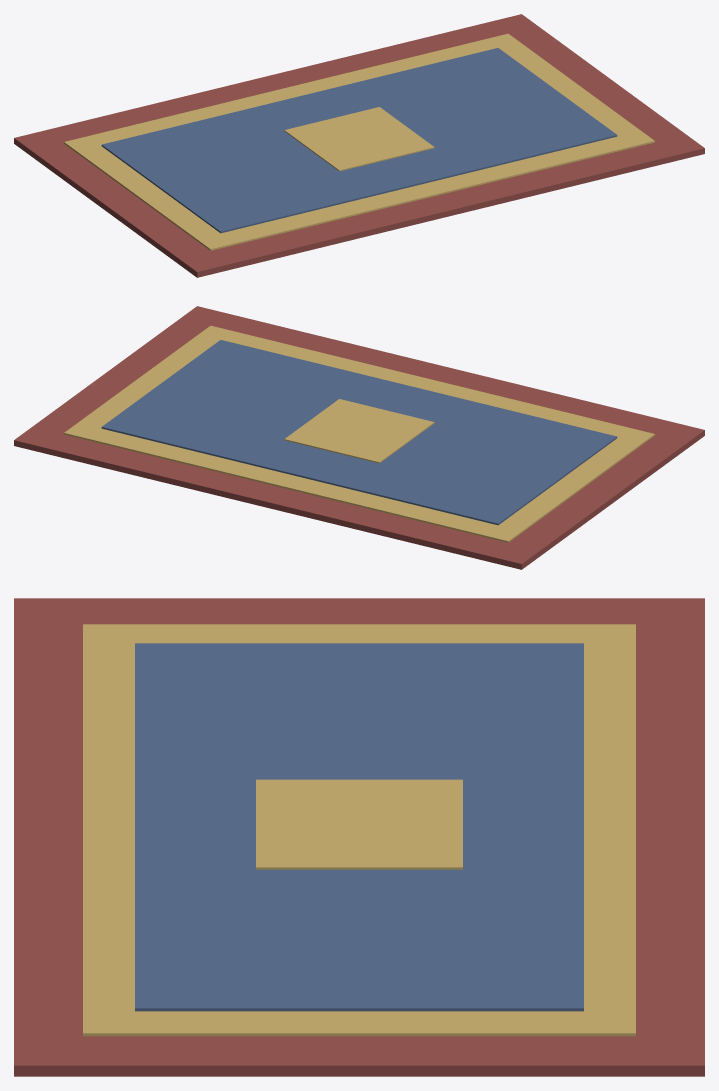
Rendered from rug.glb.
3 renders of one model, top to bottom at view 1: azimuth 30°, elevation 25°; view 2: azimuth 150°, elevation 25°; view 3: azimuth 270°, elevation 25°, orthographic. The views are drawn at different scales.
Visible parts, largest first — view 1: rug; view 2: rug; view 3: rug.
Boxes of the visible parts, <box> form: rug: <box>14,14,704,277</box>; rug: <box>14,306,704,569</box>; rug: <box>14,598,704,1076</box>.
Bounding box in the file's own units: 3.2 × 0.062 × 2.
